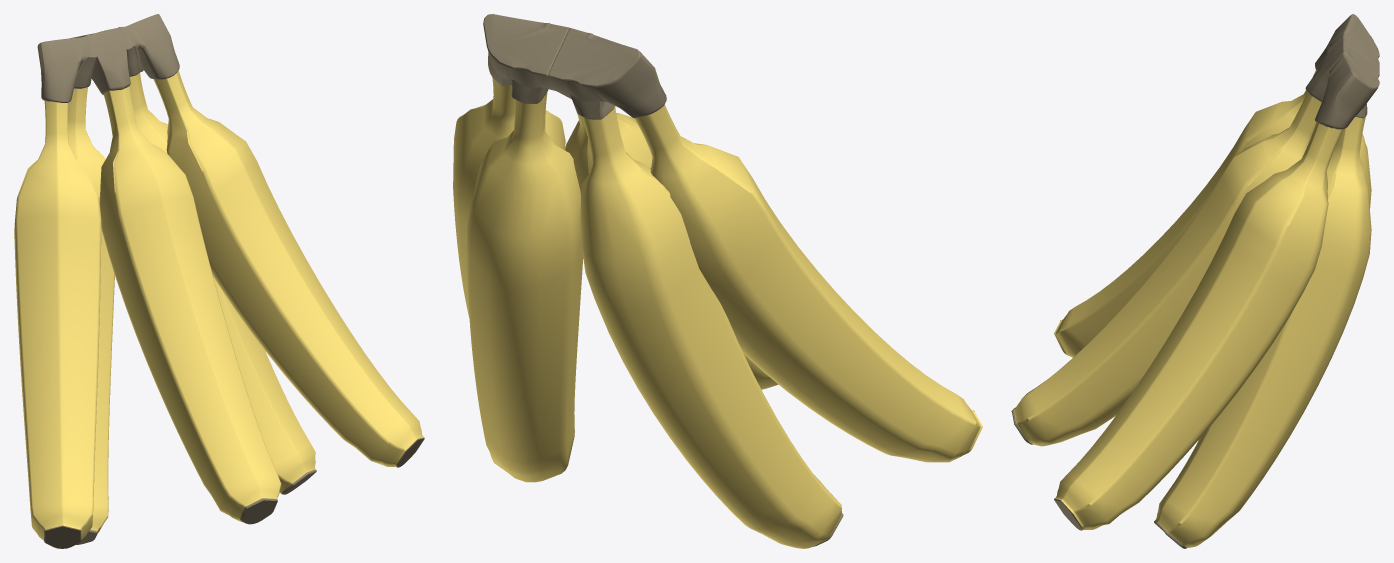
Rendered from regime_banane.fbx.
The picture shows the model from 3 angles, left to right: view 1: azimuth 30°, elevation 25°; view 2: azimuth 150°, elevation 25°; view 3: azimuth 270°, elevation 25°; orthographic projection. The views are drawn at different scales.
Parts seen in each view (by area): view 1: banane.001; view 2: banane.001; view 3: banane.001.
Boxes of the visible parts, left/top/right/bottom form: banane.001: left=14, top=14, right=424, bottom=548; banane.001: left=453, top=14, right=982, bottom=548; banane.001: left=1011, top=14, right=1379, bottom=548.
Bounding box in the file's own units: 514 × 549 × 407.
